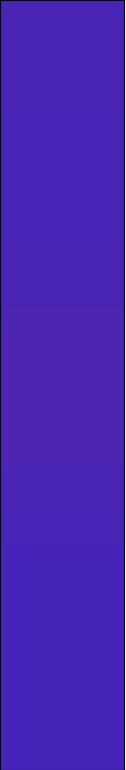safe: (19, 10, 123, 761)
